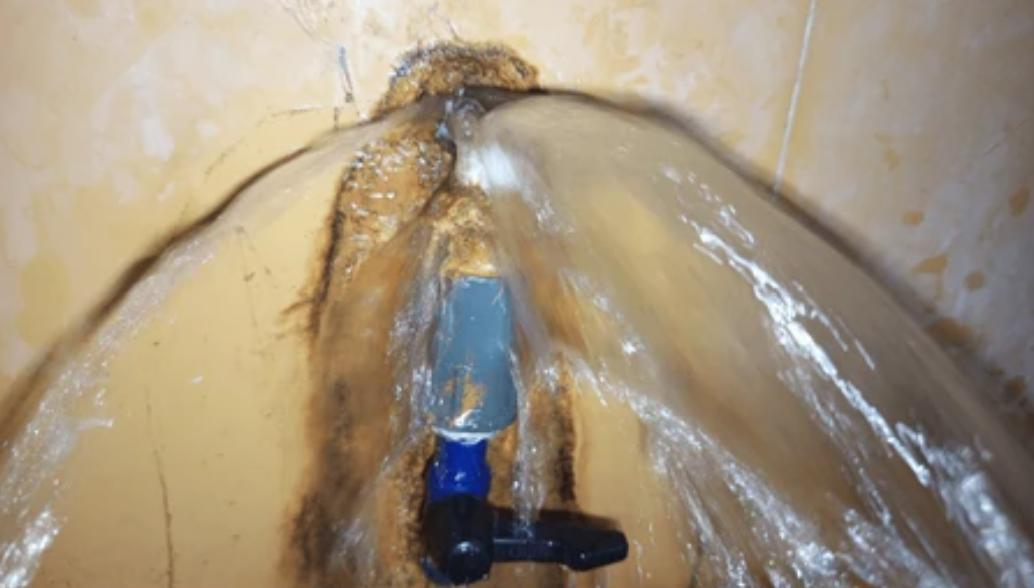pipe burst: (471, 91, 1034, 588), (0, 99, 467, 588)
